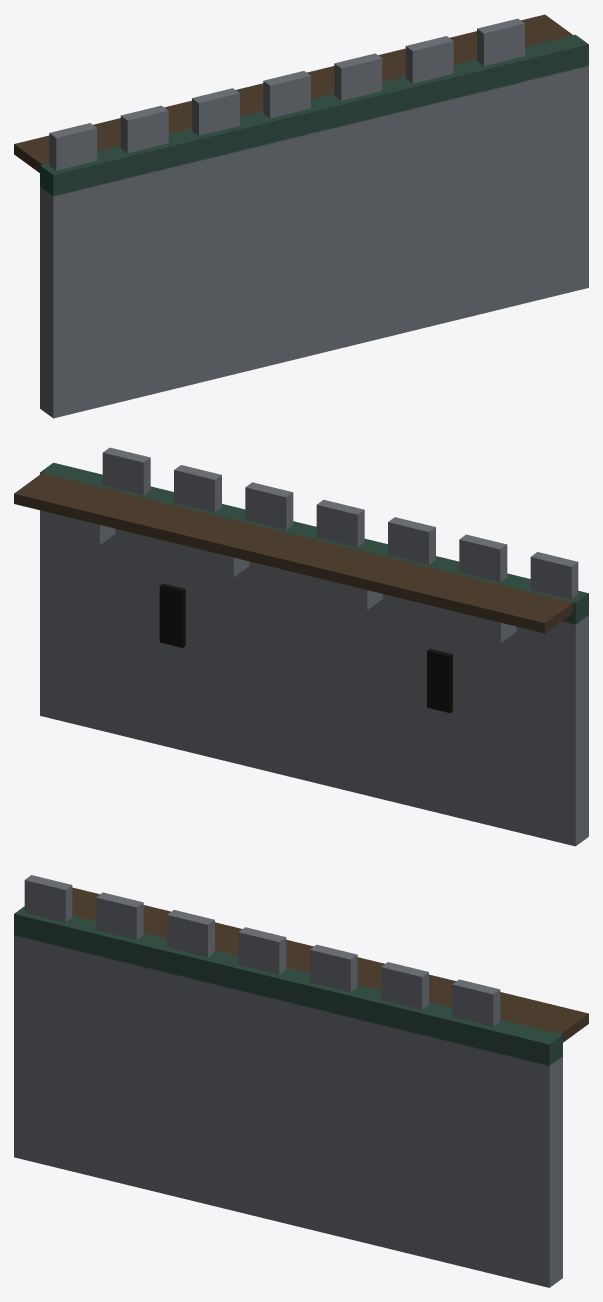
Rendered from WallStraight.fbx.
3 views of the same model, one above another, from view 1: azimuth 30°, elevation 25°; view 2: azimuth 150°, elevation 25°; view 3: azimuth 330°, elevation 25° (orthographic).
Visible parts, largest first — view 1: WallStraight; view 2: WallStraight; view 3: WallStraight.
Part boxes in pixels (<box>): WallStraight: <box>14,14,588,418</box>; WallStraight: <box>14,447,588,846</box>; WallStraight: <box>14,875,588,1287</box>.
Size of the model in its own units: 1202 by 592 by 162.
4 materials, 4 textured.
